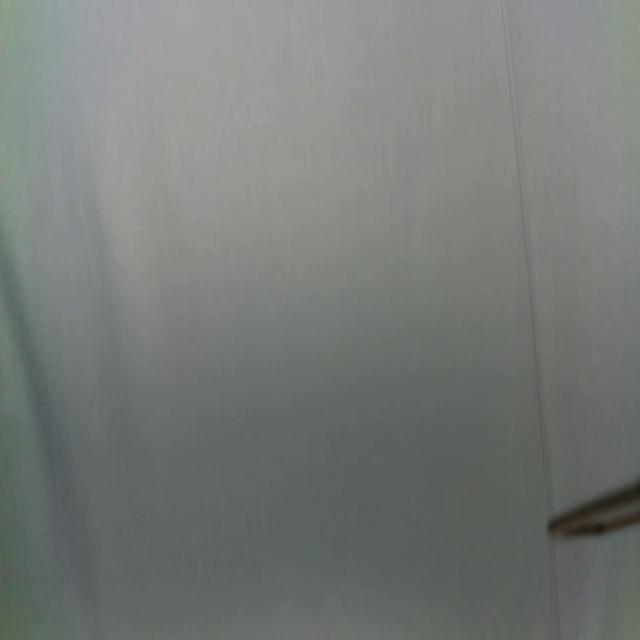crease: (501, 0, 553, 516), (549, 547, 562, 640)
